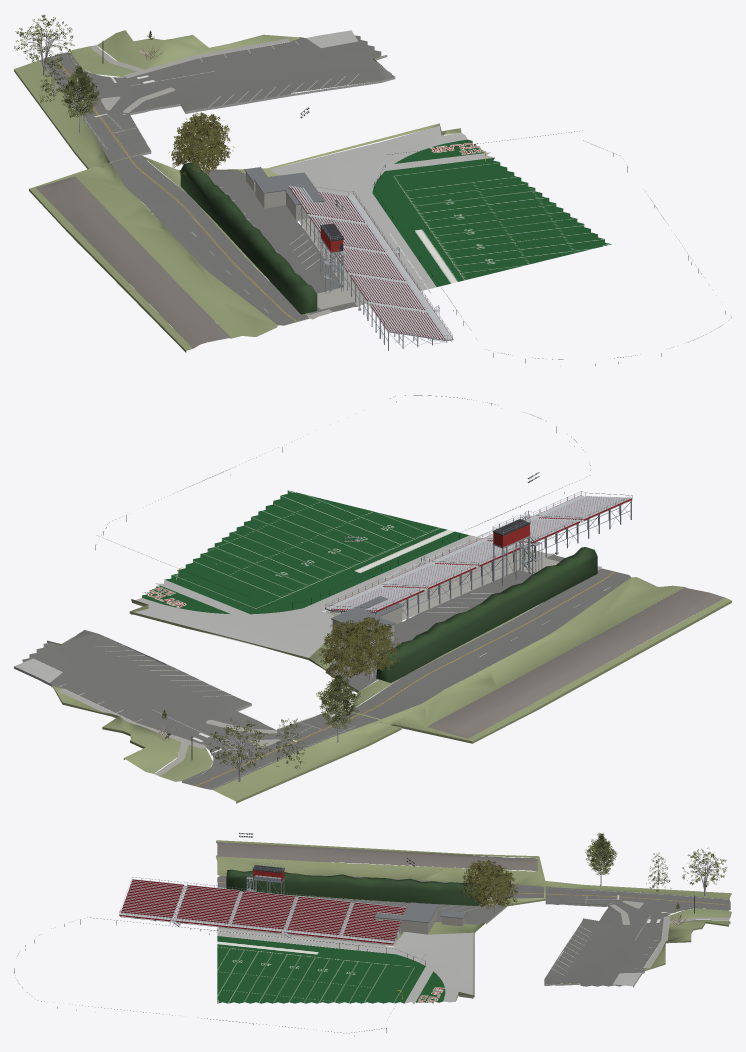
The picture shows the model from 3 angles, top to bottom: view 1: azimuth 30°, elevation 25°; view 2: azimuth 150°, elevation 25°; view 3: azimuth 270°, elevation 25°; orthographic projection. The views are drawn at different scales.
Parts seen in each view (by area): view 1: SW_ground_southwest_asphalt_-3_-1_UNVERIFIED, SW_ground_southwest_turf_-3_-1_UNVERIFIED, SW_ground_west_asphalt_-3_-1_UNVERIFIED, SW_Field_West_grandstand_planks_UNVERIFIED, SW_ground_southwest_gravel_-3_-1_UNVERIFIED, SW_Field_Carlisle_hedge_UNVERIFIED, SW_Field_West_grandstand_panels_UNVERIFIED, SW_Field_Press_box_UNVERIFIED, SW_Field_Tree_1_UNVERIFIEDspecies, SW_ground_southwest_concrete_-3_-1_UNVERIFIED, SW_Field_Storage_shed_N_UNVERIFIED, SW_W_trees_Tree_077_UNVERIFIEDspecies (+1 smaller); view 2: SW_ground_southwest_asphalt_-3_-1_UNVERIFIED, SW_ground_southwest_turf_-3_-1_UNVERIFIED, SW_ground_west_asphalt_-3_-1_UNVERIFIED, SW_ground_southwest_gravel_-3_-1_UNVERIFIED, SW_Field_Carlisle_hedge_UNVERIFIED, SW_Field_West_grandstand_planks_UNVERIFIED, SW_Field_Press_box_UNVERIFIED, SW_ground_southwest_concrete_-3_-1_UNVERIFIED, SW_Field_Tree_1_UNVERIFIEDspecies, SW_W_trees_Tree_077_UNVERIFIEDspecies, SW_Field_Storage_shed_N_UNVERIFIED, SW_W_trees_Tree_093_UNVERIFIEDspecies (+1 smaller); view 3: SW_ground_southwest_asphalt_-3_-1_UNVERIFIED, SW_ground_southwest_turf_-3_-1_UNVERIFIED, SW_Field_West_grandstand_panels_UNVERIFIED, SW_ground_west_asphalt_-3_-1_UNVERIFIED, SW_Field_West_grandstand_planks_UNVERIFIED, SW_Field_Carlisle_hedge_UNVERIFIED, SW_ground_southwest_gravel_-3_-1_UNVERIFIED, SW_Field_Tree_1_UNVERIFIEDspecies, SW_Field_Press_box_UNVERIFIED, SW_Field_Storage_shed_N_UNVERIFIED, SW_ground_southwest_concrete_-3_-1_UNVERIFIED, SW_W_trees_Tree_077_UNVERIFIEDspecies (+2 smaller).
Part boxes in pixels (x1,y1,x2,y2): SW_ground_southwest_asphalt_-3_-1_UNVERIFIED: (14, 30, 493, 352); SW_ground_southwest_turf_-3_-1_UNVERIFIED: (372, 139, 611, 286); SW_ground_west_asphalt_-3_-1_UNVERIFIED: (39, 35, 394, 161); SW_Field_West_grandstand_planks_UNVERIFIED: (289, 185, 452, 339); SW_ground_southwest_gravel_-3_-1_UNVERIFIED: (36, 176, 231, 348); SW_Field_Carlisle_hedge_UNVERIFIED: (180, 162, 317, 314); SW_Field_West_grandstand_panels_UNVERIFIED: (289, 187, 453, 339); SW_Field_Press_box_UNVERIFIED: (288, 183, 452, 350); SW_Field_Tree_1_UNVERIFIEDspecies: (19, 27, 234, 174); SW_ground_southwest_concrete_-3_-1_UNVERIFIED: (90, 38, 387, 319); SW_Field_Storage_shed_N_UNVERIFIED: (244, 167, 324, 221); SW_W_trees_Tree_077_UNVERIFIEDspecies: (57, 65, 100, 132); SW_ground_southwest_asphalt_-3_-1_UNVERIFIED: (14, 535, 731, 803); SW_ground_southwest_turf_-3_-1_UNVERIFIED: (142, 490, 469, 614); SW_ground_west_asphalt_-3_-1_UNVERIFIED: (22, 630, 378, 789); SW_ground_southwest_gravel_-3_-1_UNVERIFIED: (427, 587, 724, 738); SW_Field_Carlisle_hedge_UNVERIFIED: (376, 547, 597, 682); SW_Field_West_grandstand_planks_UNVERIFIED: (326, 495, 631, 611); SW_Field_Press_box_UNVERIFIED: (325, 491, 632, 617); SW_ground_southwest_concrete_-3_-1_UNVERIFIED: (58, 548, 601, 775); SW_Field_Tree_1_UNVERIFIEDspecies: (220, 617, 400, 782); SW_W_trees_Tree_077_UNVERIFIEDspecies: (316, 674, 360, 742); SW_Field_Storage_shed_N_UNVERIFIED: (330, 596, 404, 658); SW_W_trees_Tree_093_UNVERIFIEDspecies: (209, 718, 271, 772); SW_ground_southwest_asphalt_-3_-1_UNVERIFIED: (216, 840, 731, 1004); SW_ground_southwest_turf_-3_-1_UNVERIFIED: (217, 936, 445, 1003); SW_Field_West_grandstand_panels_UNVERIFIED: (119, 879, 405, 944); SW_ground_west_asphalt_-3_-1_UNVERIFIED: (544, 887, 730, 986); SW_Field_West_grandstand_planks_UNVERIFIED: (119, 879, 405, 943); SW_Field_Carlisle_hedge_UNVERIFIED: (226, 869, 479, 905); SW_ground_southwest_gravel_-3_-1_UNVERIFIED: (216, 842, 537, 871); SW_Field_Tree_1_UNVERIFIEDspecies: (461, 856, 724, 912); SW_Field_Press_box_UNVERIFIED: (119, 862, 406, 945); SW_Field_Storage_shed_N_UNVERIFIED: (374, 902, 466, 934); SW_ground_southwest_concrete_-3_-1_UNVERIFIED: (217, 887, 729, 968); SW_W_trees_Tree_077_UNVERIFIEDspecies: (585, 832, 617, 886).
Bounding box in the file's own units: 148 × 26.41 × 224.
Materials: 41 (14 with a texture image).
